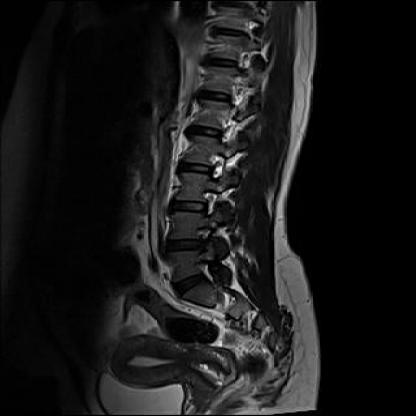Degenerative Disc Diseaserotation: (164, 239, 207, 255)
Disc Herniationrotation: (164, 239, 207, 255)
